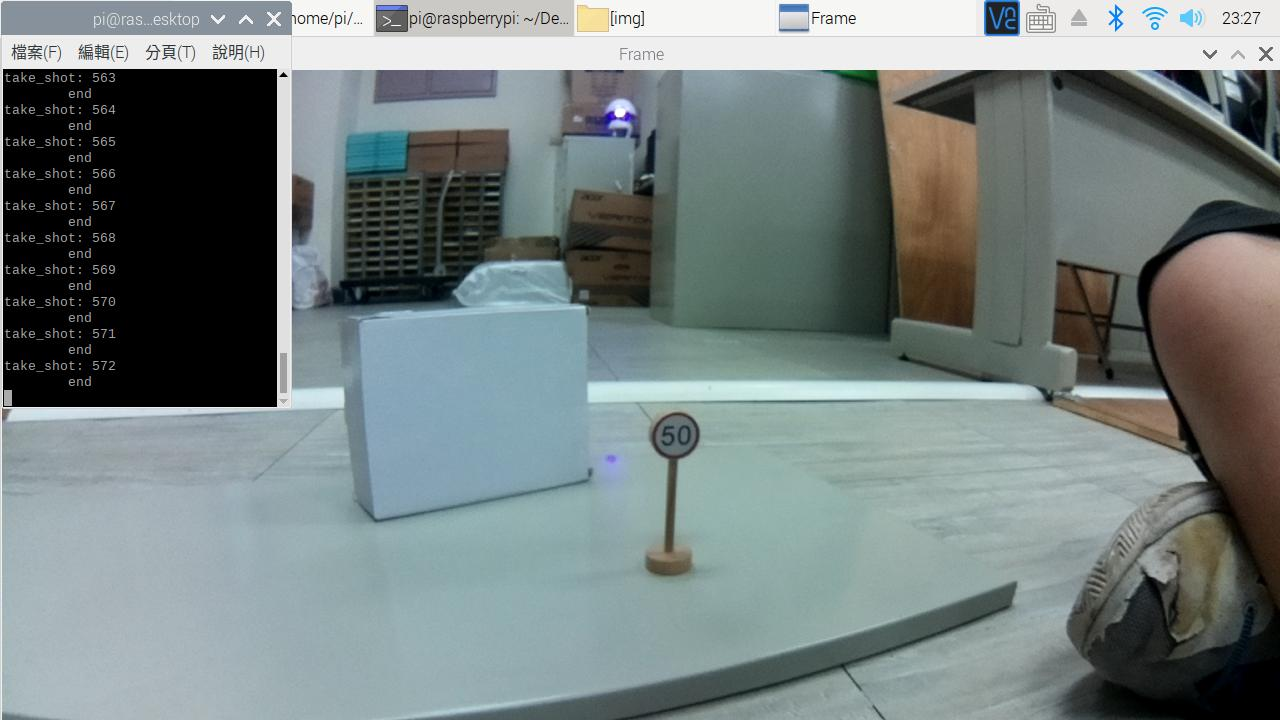Speed50: (651, 405, 701, 468)
